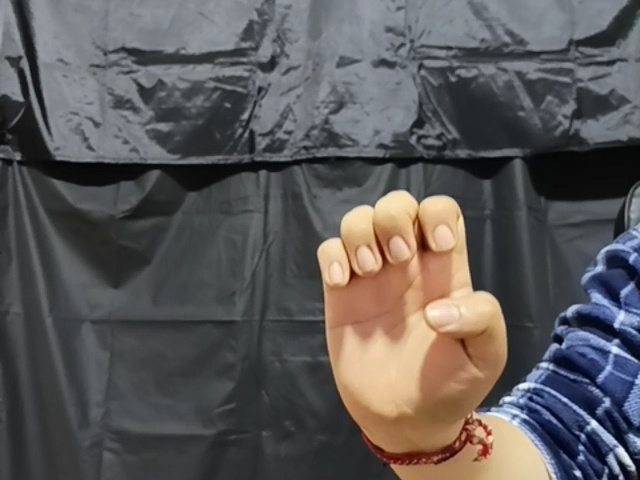E: (308, 186, 511, 442)
